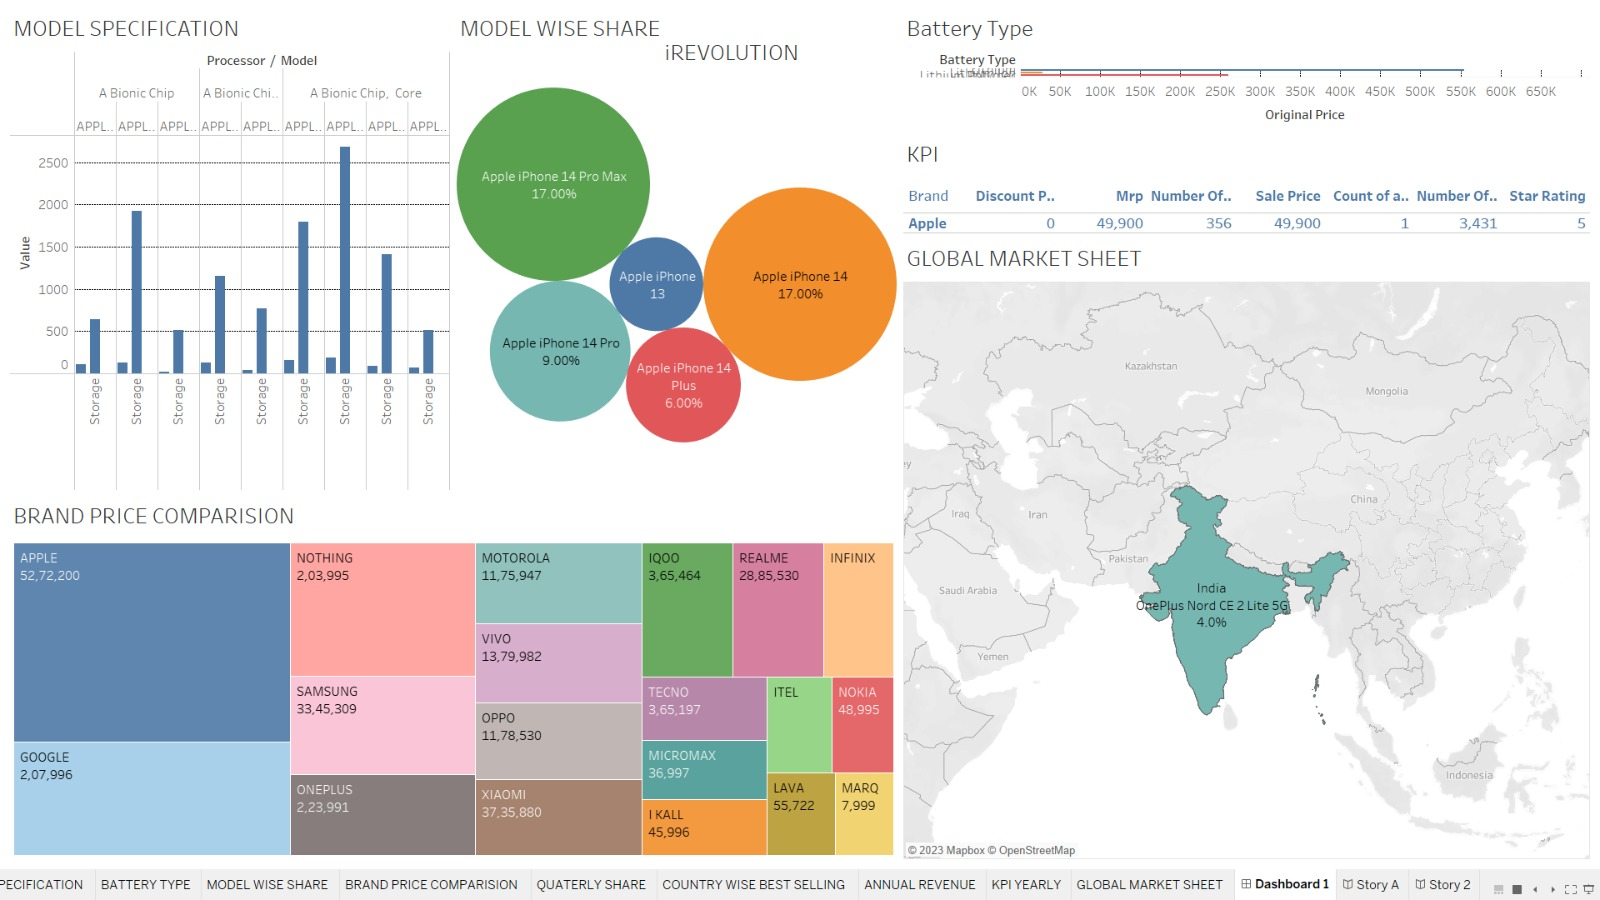

This screenshot's page, from the dashboard's own definition file:
{"tool":"tableau","page":{"name":"Dashboard 1","canvas":[1000,1000],"units":"permille","ordinal":0},"visuals":[{"type":"worksheet","title":"MODEL SPECIFICATION","mark":"Automatic","cols":["processor","model"],"box":[5.9,10.8,189.6,556.9]},{"type":"worksheet","title":"MODEL WISE SHARE","mark":"Circle","box":[195.4,10.8,189.7,556.9]},{"type":"worksheet","title":"BATTERY TYPE","mark":"Automatic","rows":["battery_type"],"cols":["original_price"],"box":[385.1,10.8,609.1,204.6]},{"type":"worksheet","title":"I","mark":"Automatic","box":[413,38.9,112.5,65.9]},{"type":"worksheet","title":"KPI","mark":"Automatic","rows":["Brand"],"box":[385.1,215.5,609.1,154.5]},{"type":"worksheet","title":"GLOBAL MARKET SHEET","mark":"Multipolygon","box":[385.1,369.9,609.1,619.2]},{"type":"worksheet","title":"BRAND PRICE COMPARISION","mark":"Automatic","box":[5.9,567.7,379.2,421.4]}]}

Visuals, with their boxes on the dashboard's canvas, which has no fixed pixel size, in thousandths of its width and height (x1, y1, x2, y2). These are canvas units, not pixel positions in the 1600x900 screenshot, which may show the page scaled, cropped or inside an application window:
"MODEL SPECIFICATION" worksheet: BBox(6, 11, 196, 568)
"MODEL WISE SHARE" worksheet (Circle marks): BBox(195, 11, 385, 568)
"BATTERY TYPE" worksheet: BBox(385, 11, 994, 215)
"I" worksheet: BBox(413, 39, 526, 105)
"KPI" worksheet: BBox(385, 216, 994, 370)
"GLOBAL MARKET SHEET" worksheet (Multipolygon marks): BBox(385, 370, 994, 989)
"BRAND PRICE COMPARISION" worksheet: BBox(6, 568, 385, 989)
